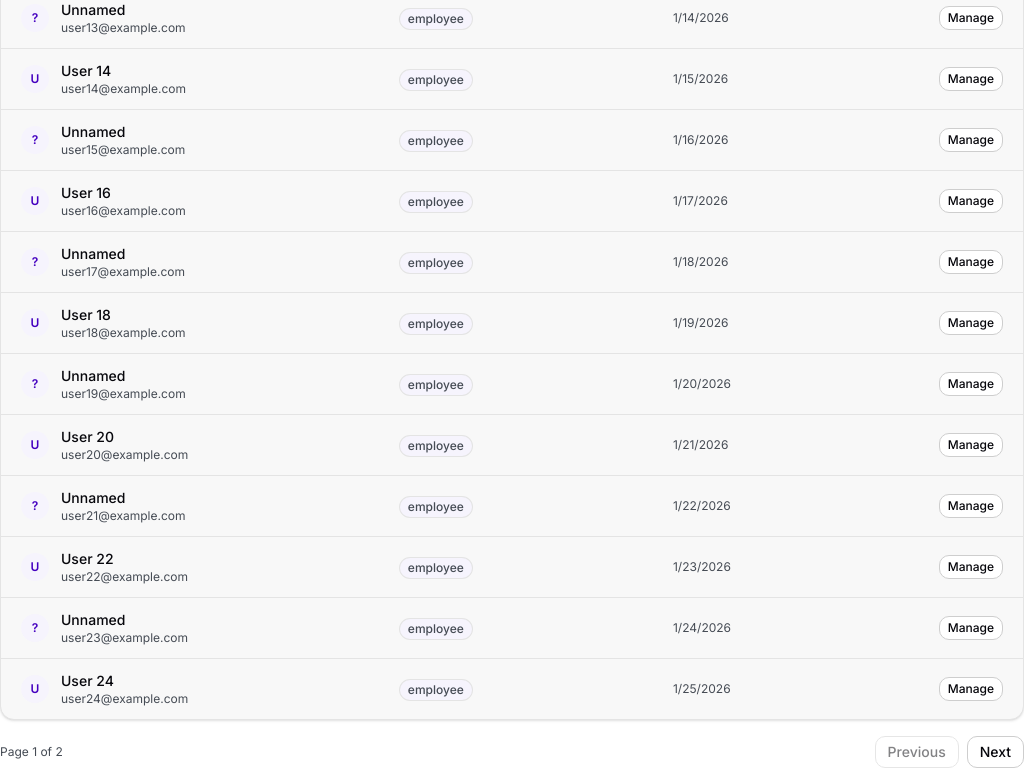
Test: UserList › paginates next/prev
(page scrolled)
Step 1. Click the button "Next" → x=995, y=752, box [967, 736, 1023, 767]
(page scrolled)
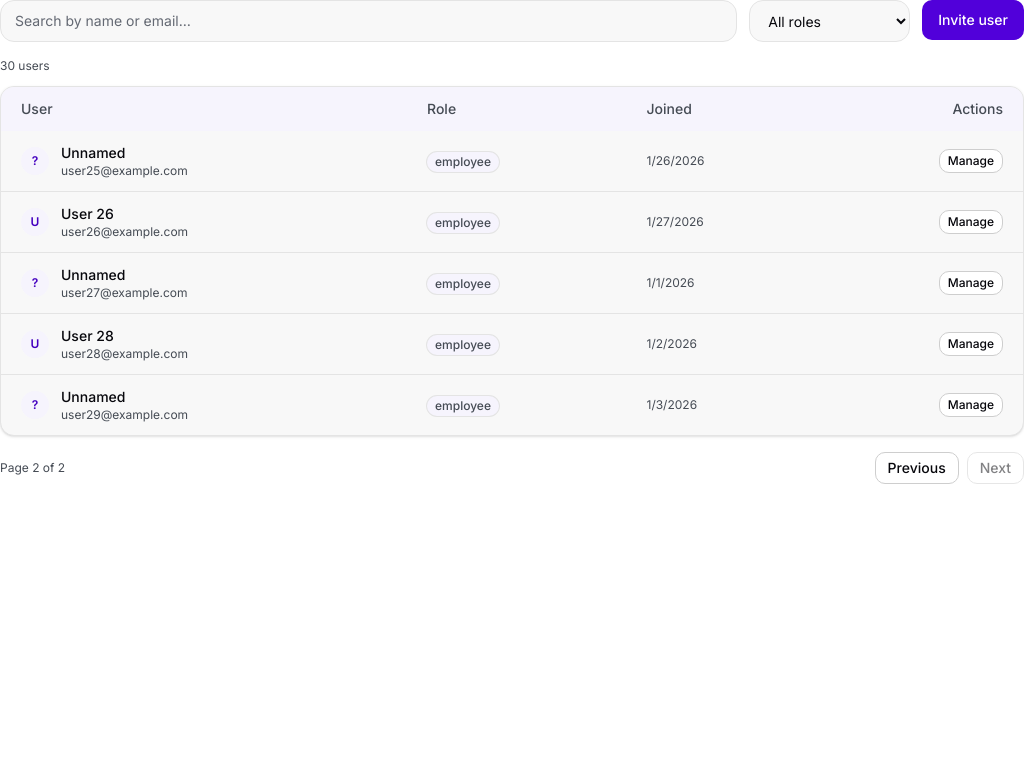
expect the text "Page 2 of 2" is shown: met, box [0, 460, 65, 476]
Step 2. Click the button "Previous" → x=917, y=468, box [875, 452, 959, 484]
(page scrolled)
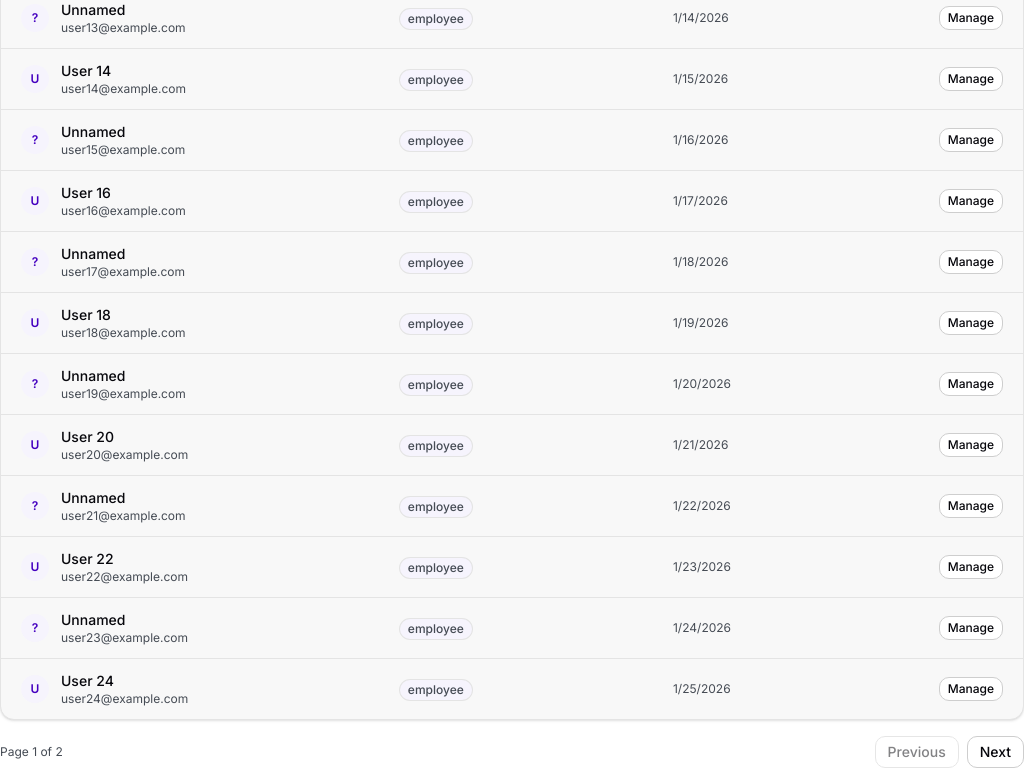
expect the text "Page 1 of 2" is shown: met, box [0, 744, 63, 760]
